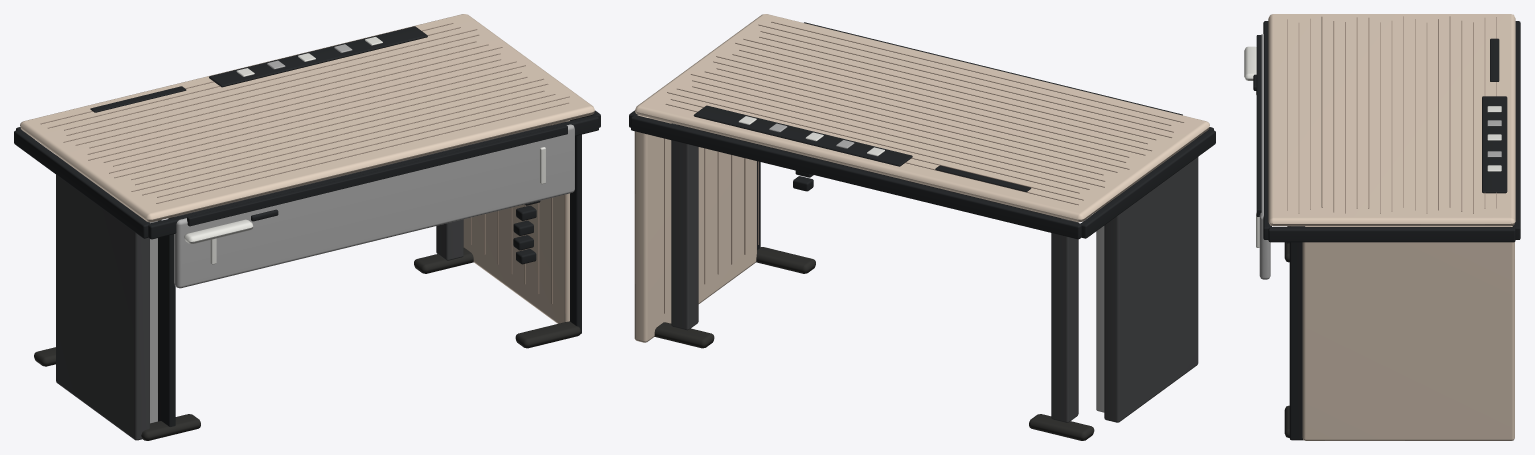
Rendered from p2s_fursys_setina_zdq012j.proxy.glb.
3 views of the same model, side by side, from view 1: azimuth 30°, elevation 25°; view 2: azimuth 150°, elevation 25°; view 3: azimuth 270°, elevation 25° (orthographic). The views are drawn at different scales.
Parts seen in each view (by area): view 1: ZDQ012J_DeskWood_light_laminate, ZDQ012J_DeskMetal_warm_grey_panel, ZDQ012J_DeskMetal_graphite_frame, ZDQ012J_DeskMetal_black_channel, ZDQ012J_DeskWood_grain_lines, ZDQ012J_DeskRubber_foot_pad, ZDQ012J_DeskPlastic_light_sensor, ZDQ012J_DeskMetal_silver_detail; view 2: ZDQ012J_DeskWood_light_laminate, ZDQ012J_DeskMetal_graphite_frame, ZDQ012J_DeskMetal_black_channel, ZDQ012J_DeskWood_grain_lines, ZDQ012J_DeskRubber_foot_pad, ZDQ012J_DeskMetal_warm_grey_panel; view 3: ZDQ012J_DeskWood_light_laminate, ZDQ012J_DeskMetal_black_channel, ZDQ012J_DeskWood_grain_lines, ZDQ012J_DeskMetal_warm_grey_panel, ZDQ012J_DeskMetal_silver_detail, ZDQ012J_DeskPlastic_light_sensor, ZDQ012J_DeskRubber_foot_pad.
Boxes of the visible parts, box(x1,y1,x2,y2) form: ZDQ012J_DeskWood_light_laminate: box(20, 14, 594, 323); ZDQ012J_DeskMetal_warm_grey_panel: box(150, 44, 574, 423); ZDQ012J_DeskMetal_graphite_frame: box(56, 125, 549, 440); ZDQ012J_DeskMetal_black_channel: box(14, 26, 600, 426); ZDQ012J_DeskWood_grain_lines: box(40, 23, 569, 313); ZDQ012J_DeskRubber_foot_pad: box(34, 247, 580, 440); ZDQ012J_DeskPlastic_light_sensor: box(184, 219, 253, 243); ZDQ012J_DeskMetal_silver_detail: box(210, 37, 545, 264); ZDQ012J_DeskWood_light_laminate: box(634, 14, 1209, 342); ZDQ012J_DeskMetal_graphite_frame: box(671, 123, 1198, 422); ZDQ012J_DeskMetal_black_channel: box(629, 22, 1215, 249); ZDQ012J_DeskWood_grain_lines: box(664, 21, 1184, 313); ZDQ012J_DeskRubber_foot_pad: box(654, 247, 1094, 440); ZDQ012J_DeskMetal_warm_grey_panel: box(769, 123, 1104, 412); ZDQ012J_DeskWood_light_laminate: box(1268, 14, 1515, 440); ZDQ012J_DeskMetal_black_channel: box(1253, 21, 1520, 440); ZDQ012J_DeskWood_grain_lines: box(1287, 16, 1496, 213); ZDQ012J_DeskMetal_warm_grey_panel: box(1259, 34, 1501, 279); ZDQ012J_DeskMetal_silver_detail: box(1256, 91, 1501, 247); ZDQ012J_DeskPlastic_light_sensor: box(1244, 46, 1256, 80); ZDQ012J_DeskRubber_foot_pad: box(1284, 242, 1289, 437).
Size of the model in its own units: 1.2 by 0.597 by 0.6595.
